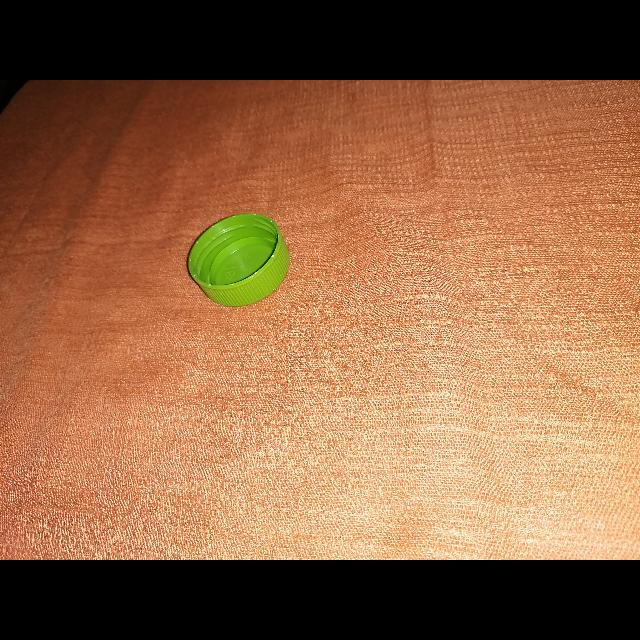plastic_bottle_cap: (187, 213, 291, 307)
